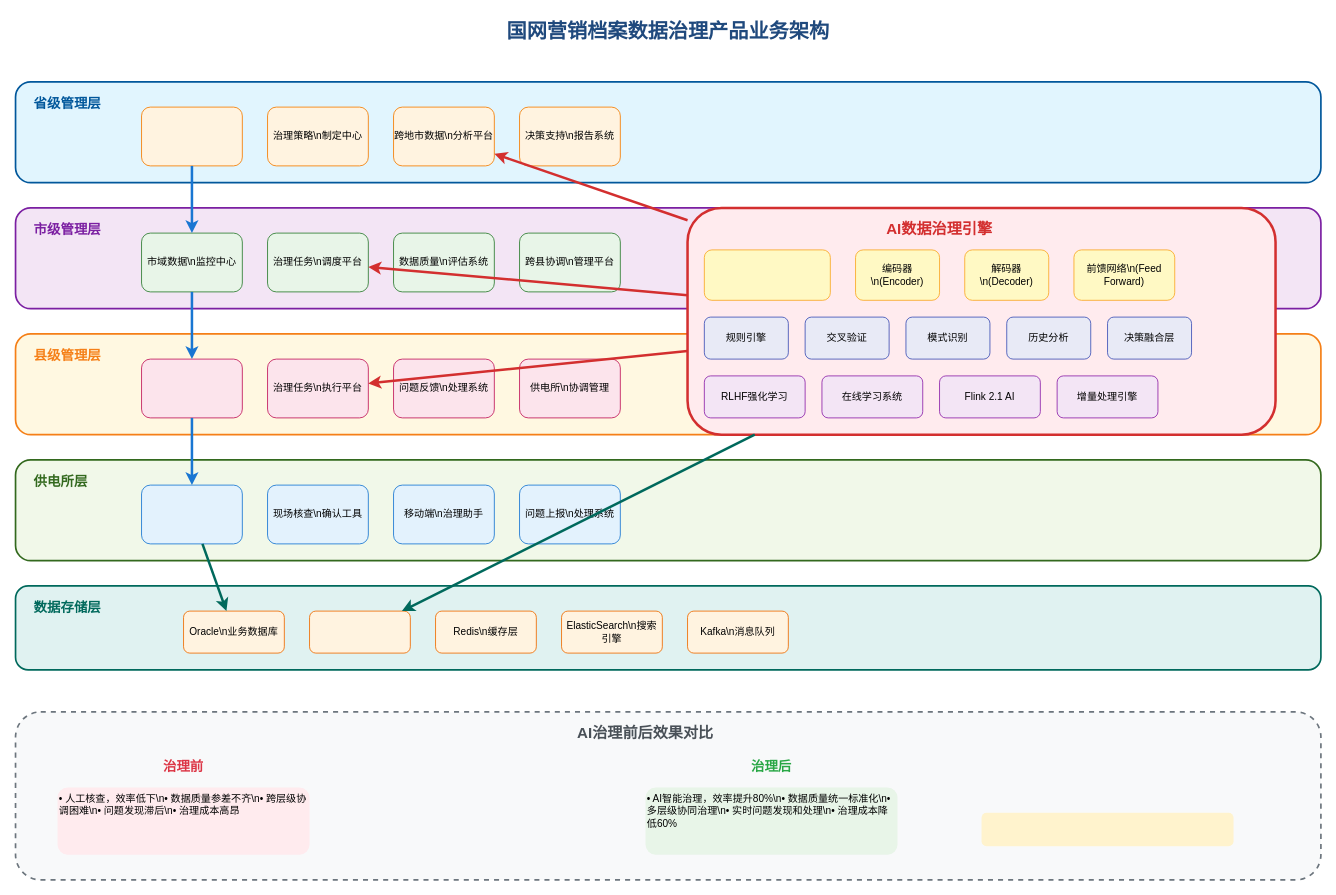
Some shapes in this 1336 by 895 pixel diagram are drawn without their labels. Each missing label, with the centre of its shape:
PostgreSQL\n治理数据库: the point at 359,631
全省数据质量\n监控大屏: the point at 191,136
多头注意力机制\n(Multi-Head Attention): the point at 767,274
数据采集\n录入系统: the point at 191,514
本地数据\n治理中心: the point at 191,388
核心价值：智能化、标准化、协同化: the point at 1107,829
